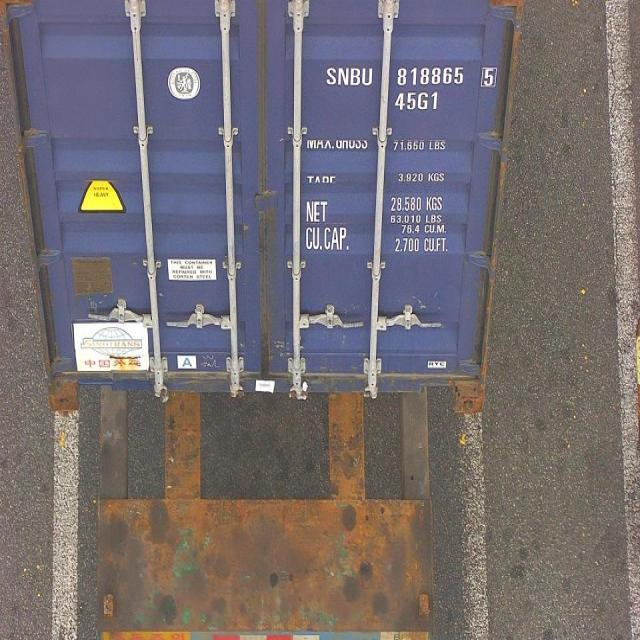ISO: (396, 92, 440, 111)
container_number: (323, 67, 497, 91)
